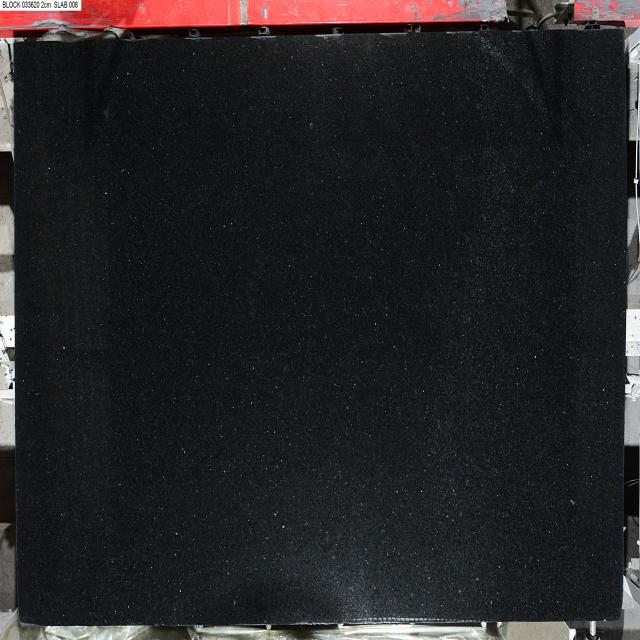chapa: (15, 30, 626, 626)
